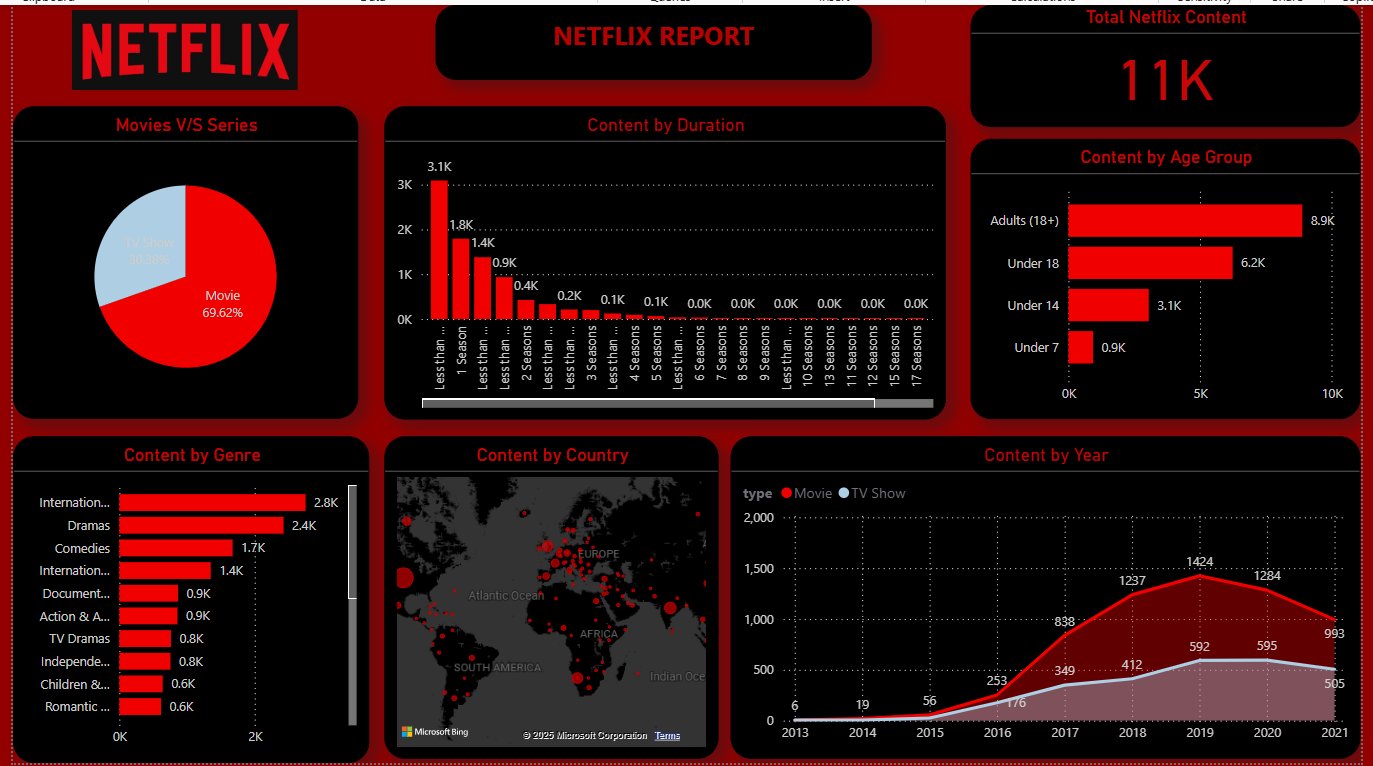

Layout of this report page (visuals, bound fields, positions):
{"tool":"powerbi","page":{"name":"Netflix Report","canvas":[1280,720],"ordinal":0},"visuals":[{"type":"card","title":"Total Netflix Content","fields":{"Values":["netflix_titles (2).Measure"]},"box":[910,0,370,116.2],"z":0},{"type":"barChart","title":"Content by Age Group","fields":{"Y":["CountNonNull(Genre.show_id)"],"Category":["netflix_titles.Age Group"]},"box":[910,127.5,370,266.2],"z":1000},{"type":"clusteredBarChart","title":"Content by Genre","fields":{"Category":["Genre.Value"],"Y":["CountNonNull(Genre.show_id)"]},"box":[0,410,338.8,310],"z":2000},{"type":"textbox","box":[401.4,0,414.3,71.4],"z":3000},{"type":"image","box":[0,0,327.1,85.7],"z":4000},{"type":"pieChart","title":"Movies V/S Series","fields":{"Category":["netflix_titles (2).type"],"Y":["CountNonNull(netflix_titles (2).type)"]},"box":[0,96.7,327.8,296.7],"z":5000},{"type":"map","title":"Content by Country","fields":{"Category":["Country.country"],"Size":["_Mesures.# of countries"]},"box":[352.2,410,317.8,306.7],"z":6000},{"type":"columnChart","title":"Content by Duration","fields":{"Category":["Sheet2.Column9"],"Y":["CountNonNull(Sheet2.show_id)"]},"box":[352.5,96.2,533.8,297.5],"z":7000},{"type":"areaChart","title":"Content by Year","fields":{"Category":["netflix_titles.date_added.Variation.Date Hierarchy.Year"],"Y":["CountNonNull(netflix_titles.show_id)"],"Series":["netflix_titles.type"]},"box":[681.2,410,598.8,306.2],"z":8000}]}

Visuals, with their boxes in screenshot pixels (x1, y1, x2, y2):
"Total Netflix Content" card: left=964, top=0, right=1352, bottom=122
"Content by Age Group" barChart: left=964, top=134, right=1352, bottom=413
"Content by Genre" clusteredBarChart: left=11, top=430, right=366, bottom=755
textbox: left=431, top=0, right=866, bottom=75
image: left=11, top=0, right=354, bottom=90
"Movies V/S Series" pieChart: left=11, top=101, right=354, bottom=412
"Content by Country" map: left=380, top=430, right=713, bottom=751
"Content by Duration" columnChart: left=380, top=101, right=940, bottom=413
"Content by Year" areaChart: left=725, top=430, right=1352, bottom=751
